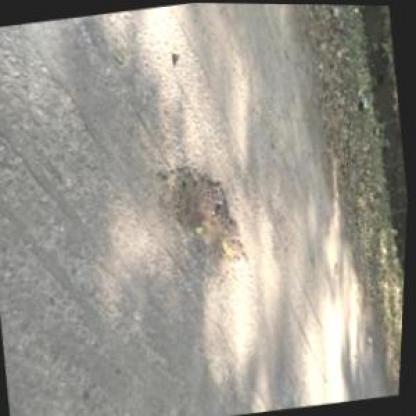pothole: (147, 153, 259, 284)
